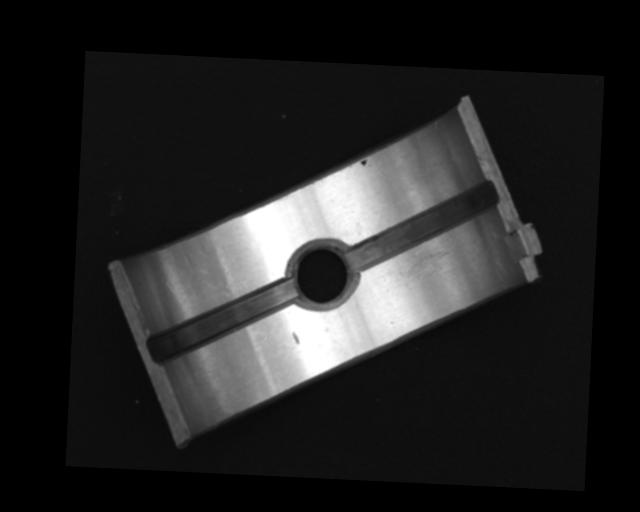blot: (359, 157, 369, 166)
bruise: (290, 331, 300, 345)
gap: (146, 272, 297, 371), (348, 179, 496, 277)
hole: (289, 239, 356, 314)
scratch: (395, 228, 461, 292)
